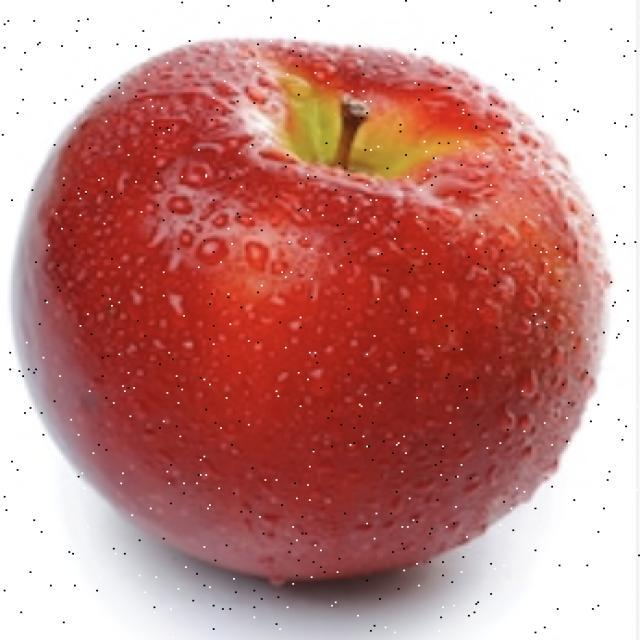Fresh Apple: (31, 59, 592, 588)
